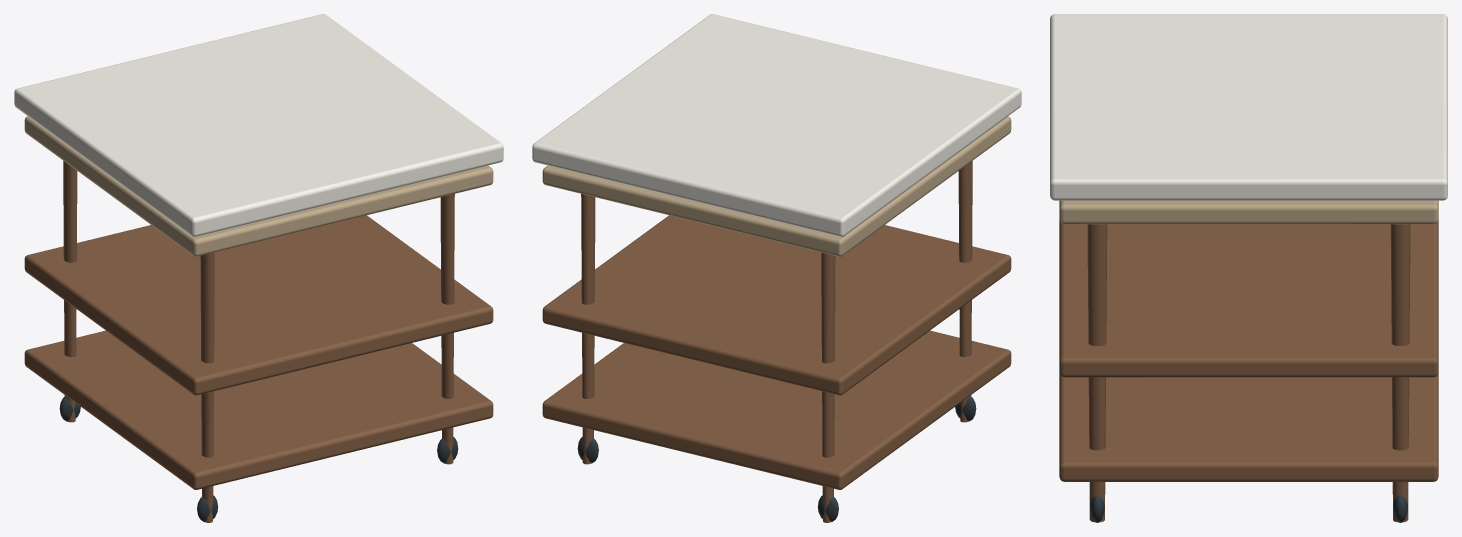
Rendered from cabinet-19-3.glb.
The picture shows the model from 3 angles, left to right: view 1: azimuth 30°, elevation 25°; view 2: azimuth 150°, elevation 25°; view 3: azimuth 270°, elevation 25°; orthographic projection. The views are drawn at different scales.
Visible parts, largest first — view 1: part (×2), worktop, upholstery; view 2: part (×2), worktop, upholstery; view 3: part (×2), worktop, upholstery.
Boxes of the visible parts, box(x1,y1,x2,y2) form: part (×2): box(24, 161, 493, 522); worktop: box(14, 14, 503, 236); upholstery: box(24, 116, 493, 256); part (×2): box(542, 161, 1011, 522); worktop: box(532, 14, 1021, 236); upholstery: box(542, 116, 1011, 256); part (×2): box(1059, 219, 1438, 522); worktop: box(1050, 14, 1447, 200); upholstery: box(1059, 200, 1438, 224).
Size of the model in its own units: 1 by 1 by 1.
